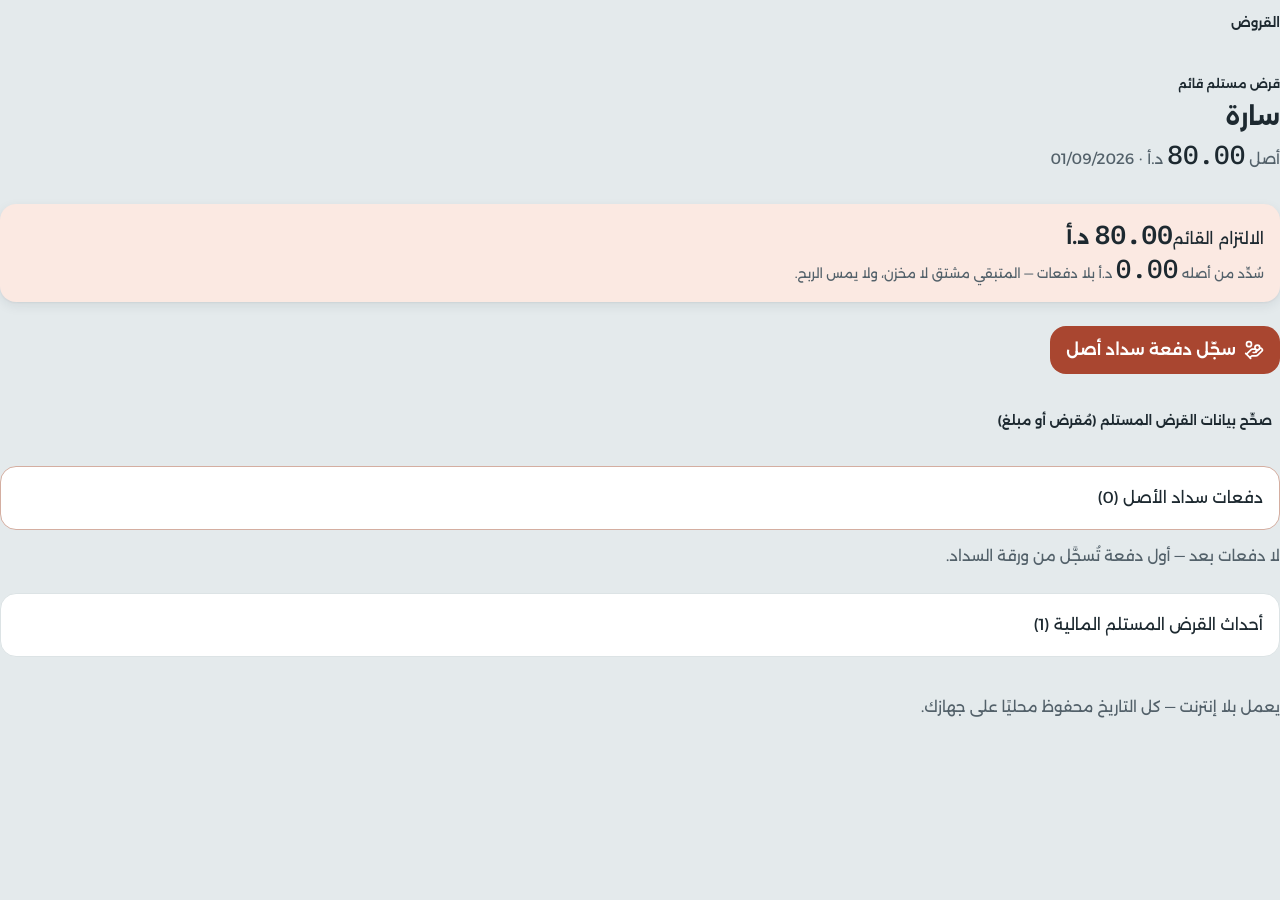
it: ReceivedLoanDetail — direct page-boundary behavior (R9-W3) › corrects the lender through the documented reverse-and-replace flow and updates the live reading
The image size is (1280, 900).
Click the button "صحِّح بيانات القرض المستلم (مُقرض أو مبلغ)". click: (1135, 420)
box: x1=989 y1=398 x2=1279 y2=442
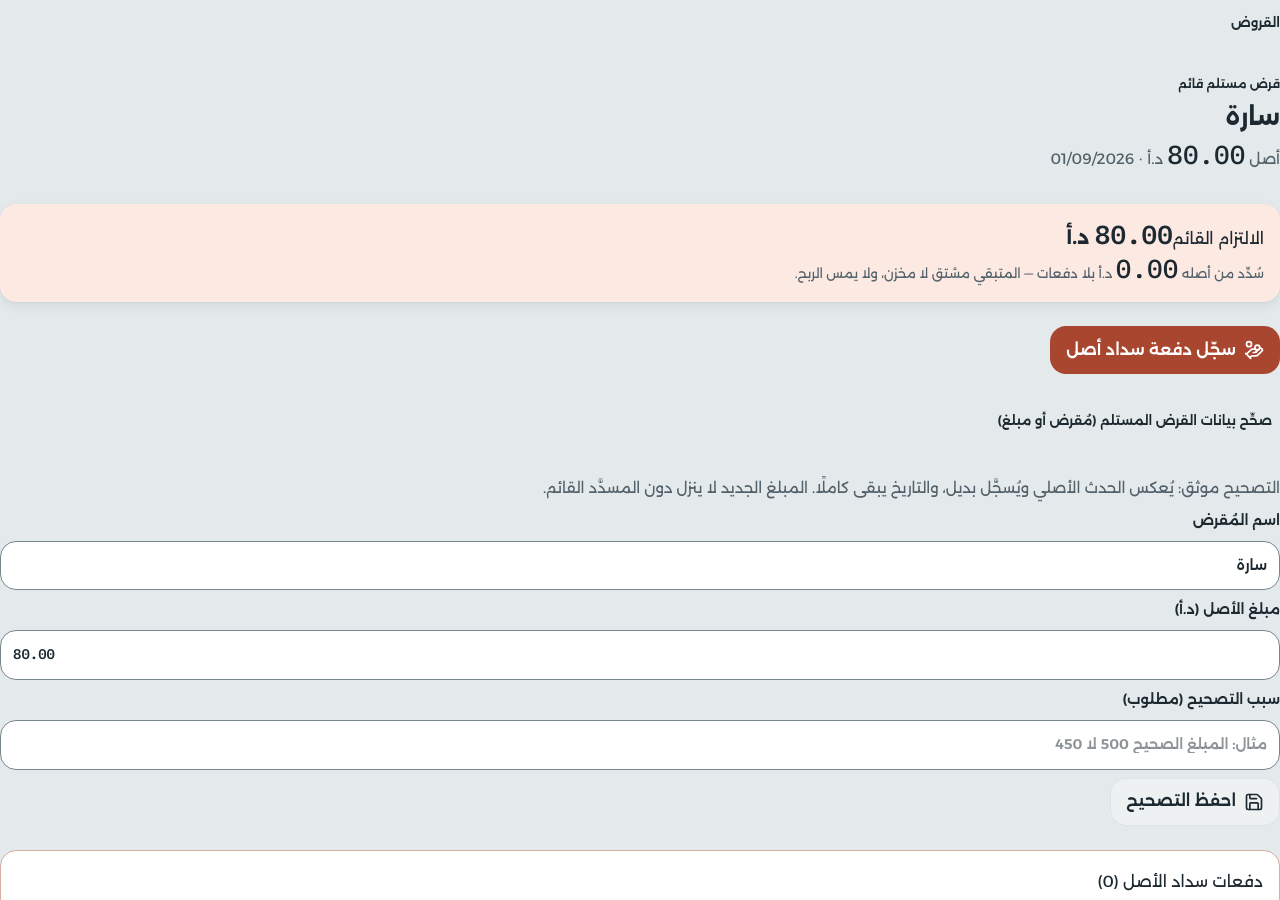
Replace the text in the field labelled "اسم المُقرض" with "سارة الياسين". click: (640, 566)
box: x1=0 y1=541 x2=1279 y2=590
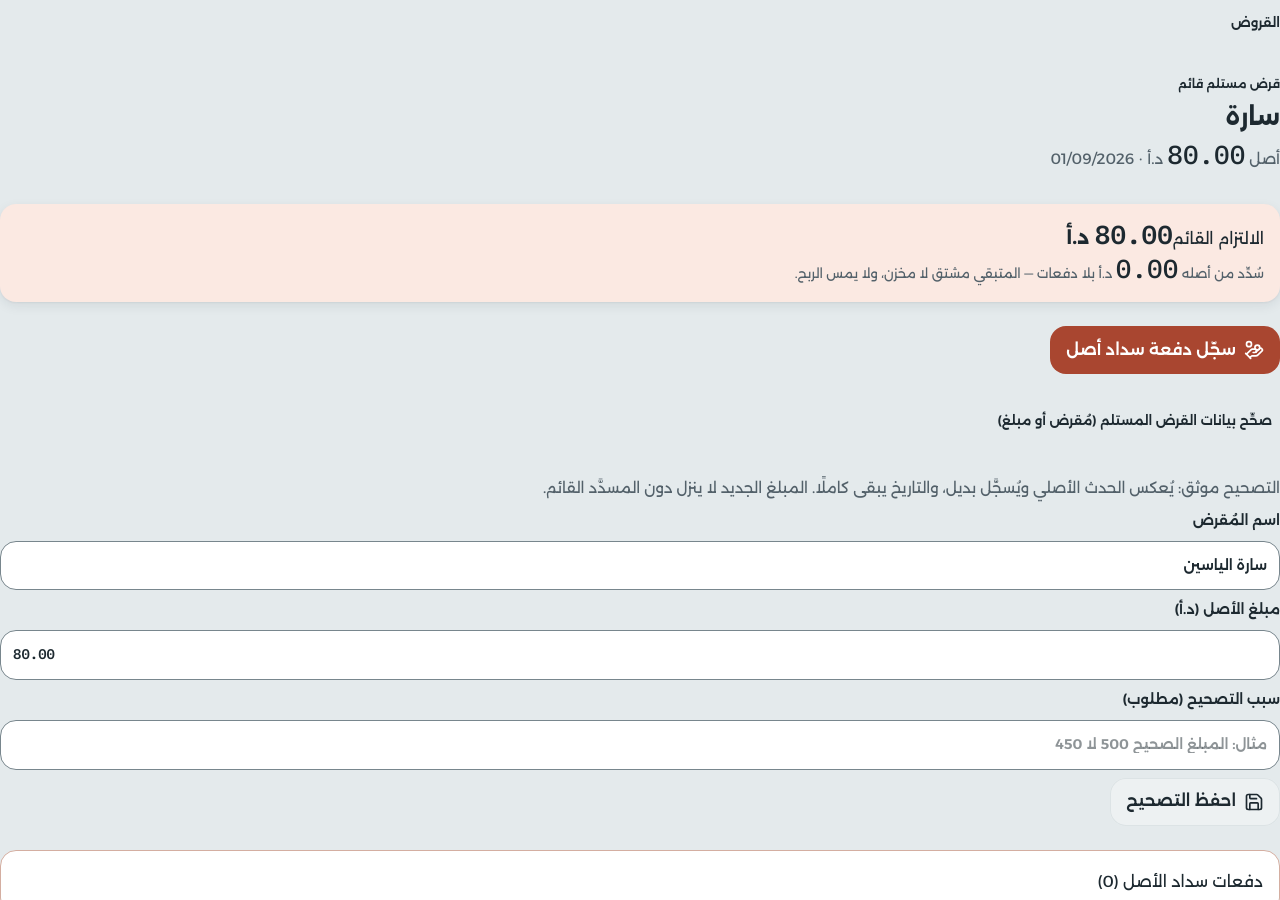
Type "تصحيح اسم المُقرض" into the field with placeholder "مثال: المبلغ الصحيح 500 لا 450". click: (640, 745)
box: x1=0 y1=720 x2=1279 y2=770
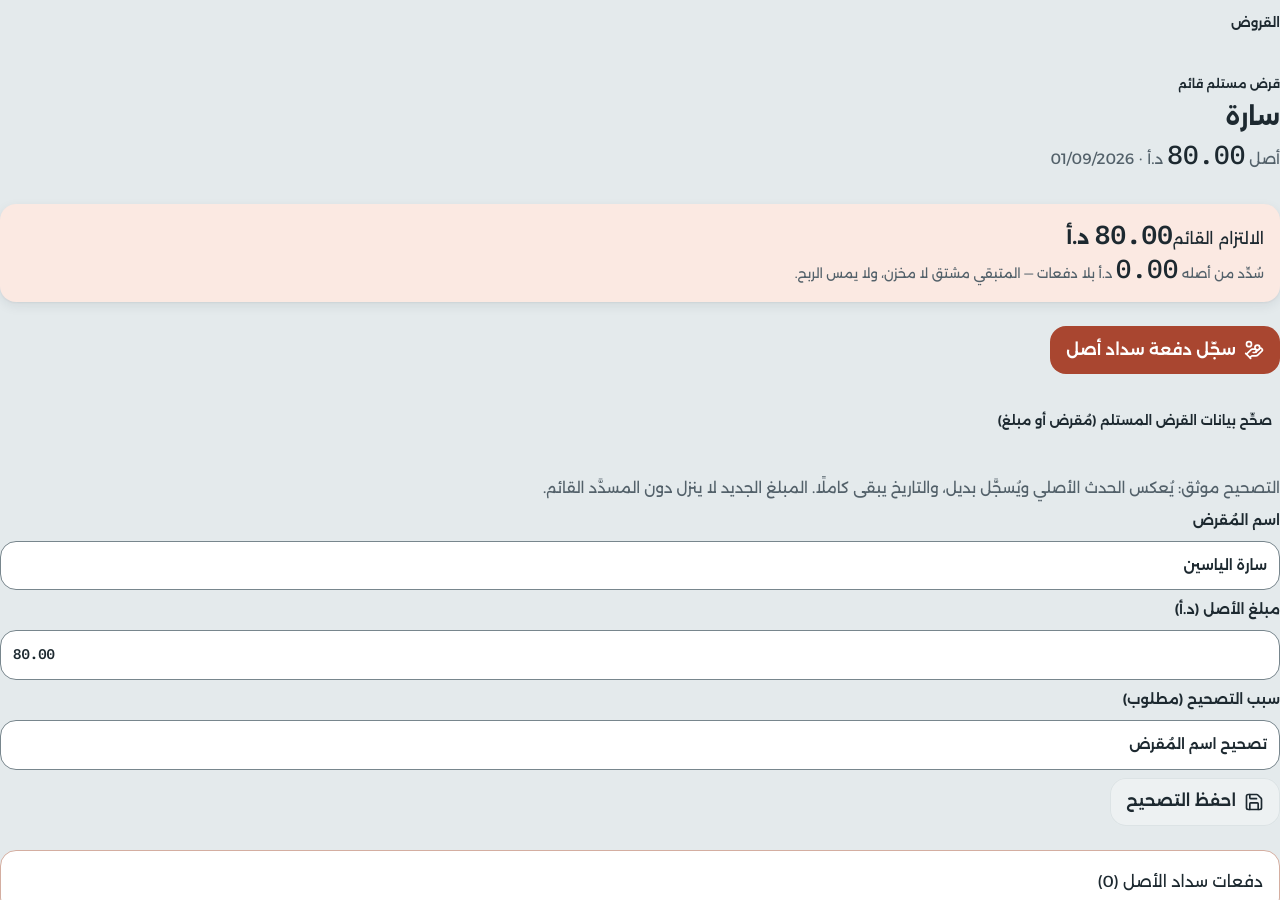
Click the button "احفظ التصحيح". click: (1195, 802)
box: x1=1110 y1=778 x2=1279 y2=826
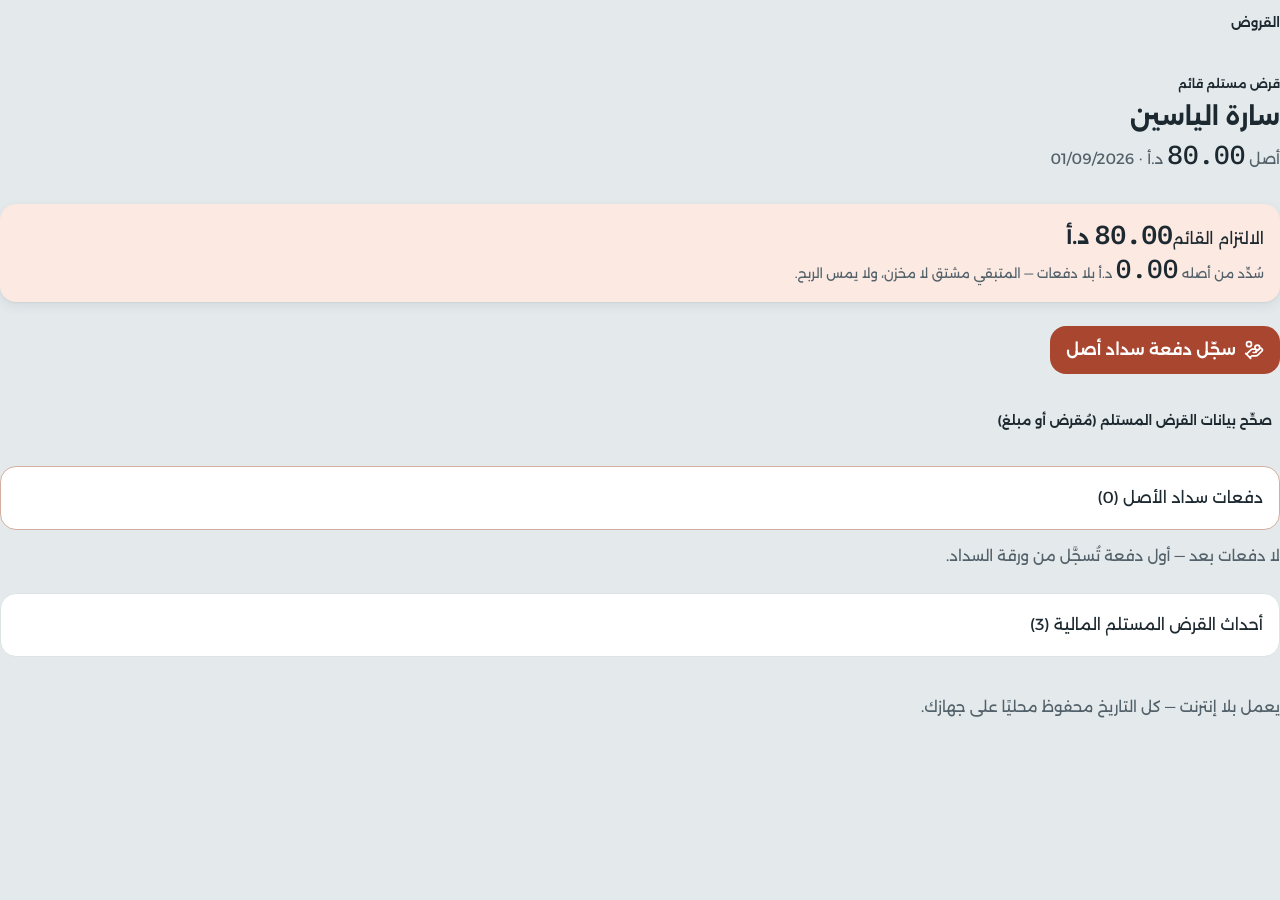
Now the heading "سارة الياسين" is shown, box x1=1130 y1=102 x2=1279 y2=131
